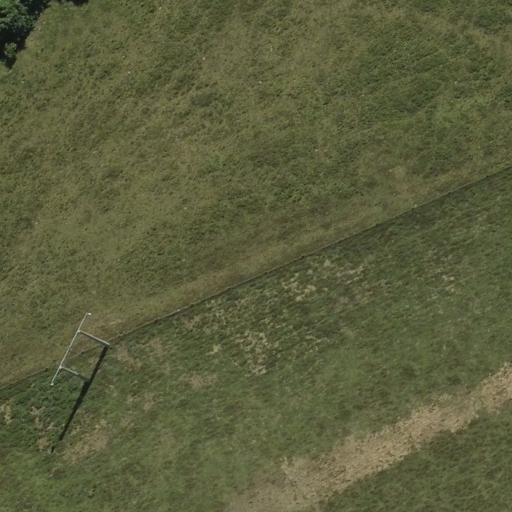DT: (47, 301, 117, 408)
